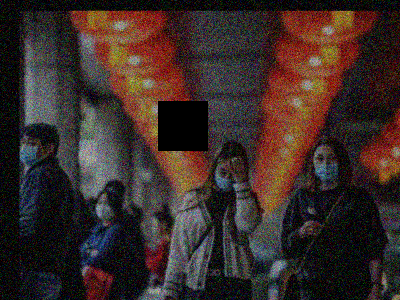with_mask: (311, 149, 341, 184), (19, 134, 44, 167), (213, 165, 239, 192), (93, 199, 114, 222)
